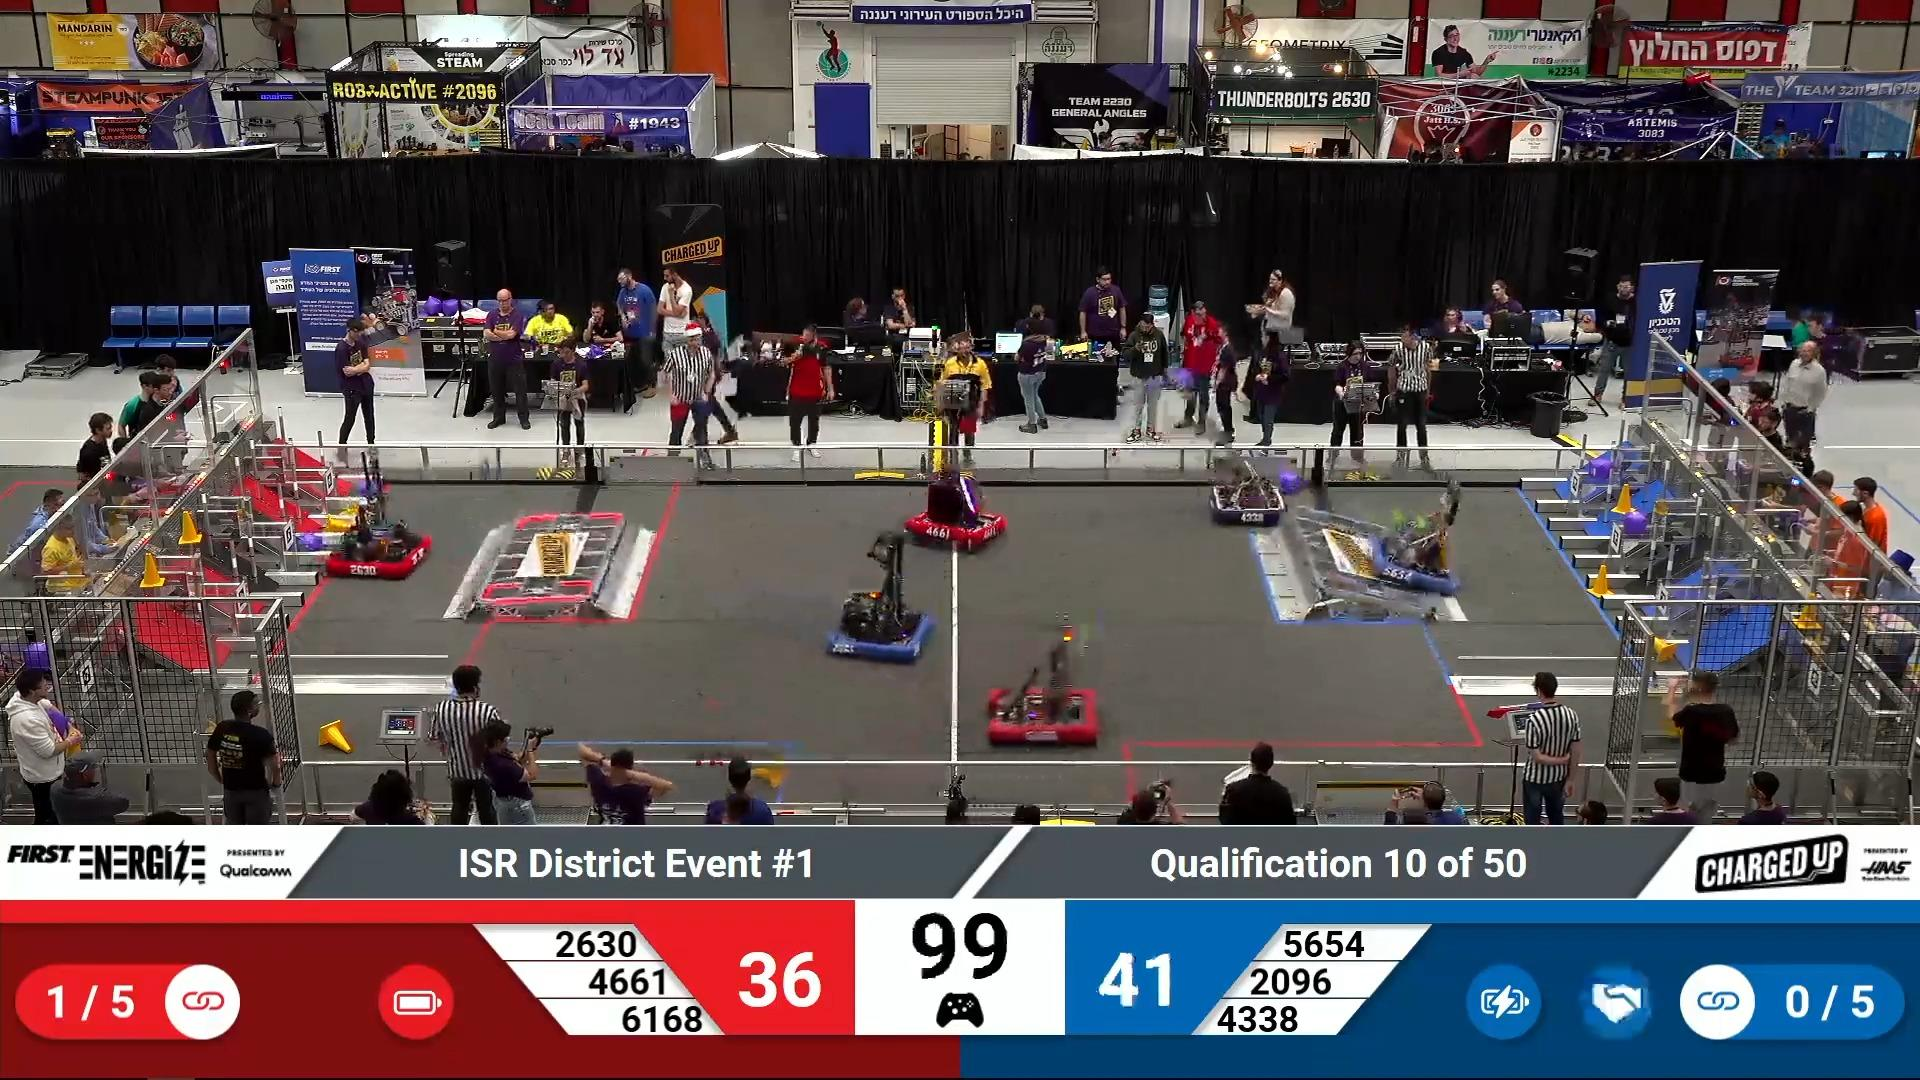robot: (980, 653, 1098, 750), (828, 564, 936, 667), (903, 462, 1022, 551), (323, 512, 431, 583), (1203, 450, 1294, 525), (1373, 521, 1466, 592)
